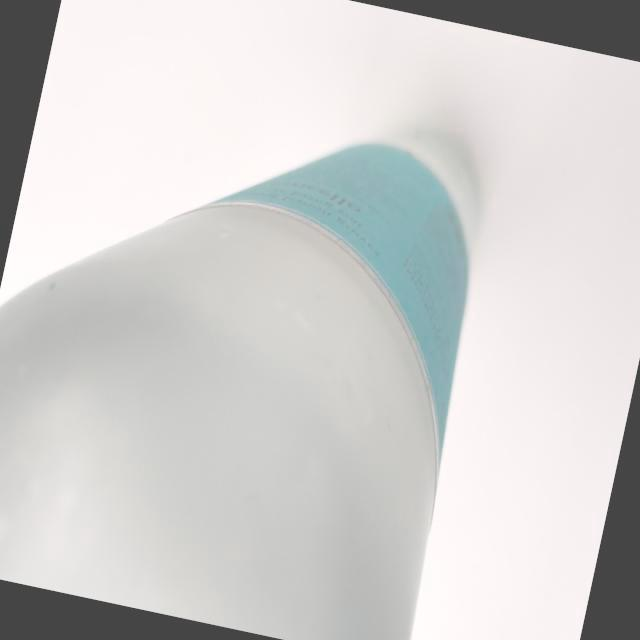glass: (0, 32, 524, 640)
